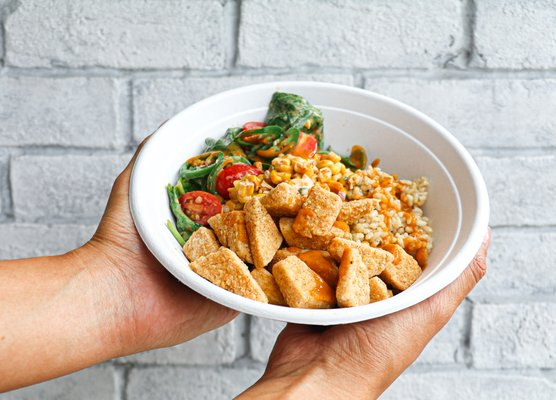sushi: (128, 82, 489, 330)
